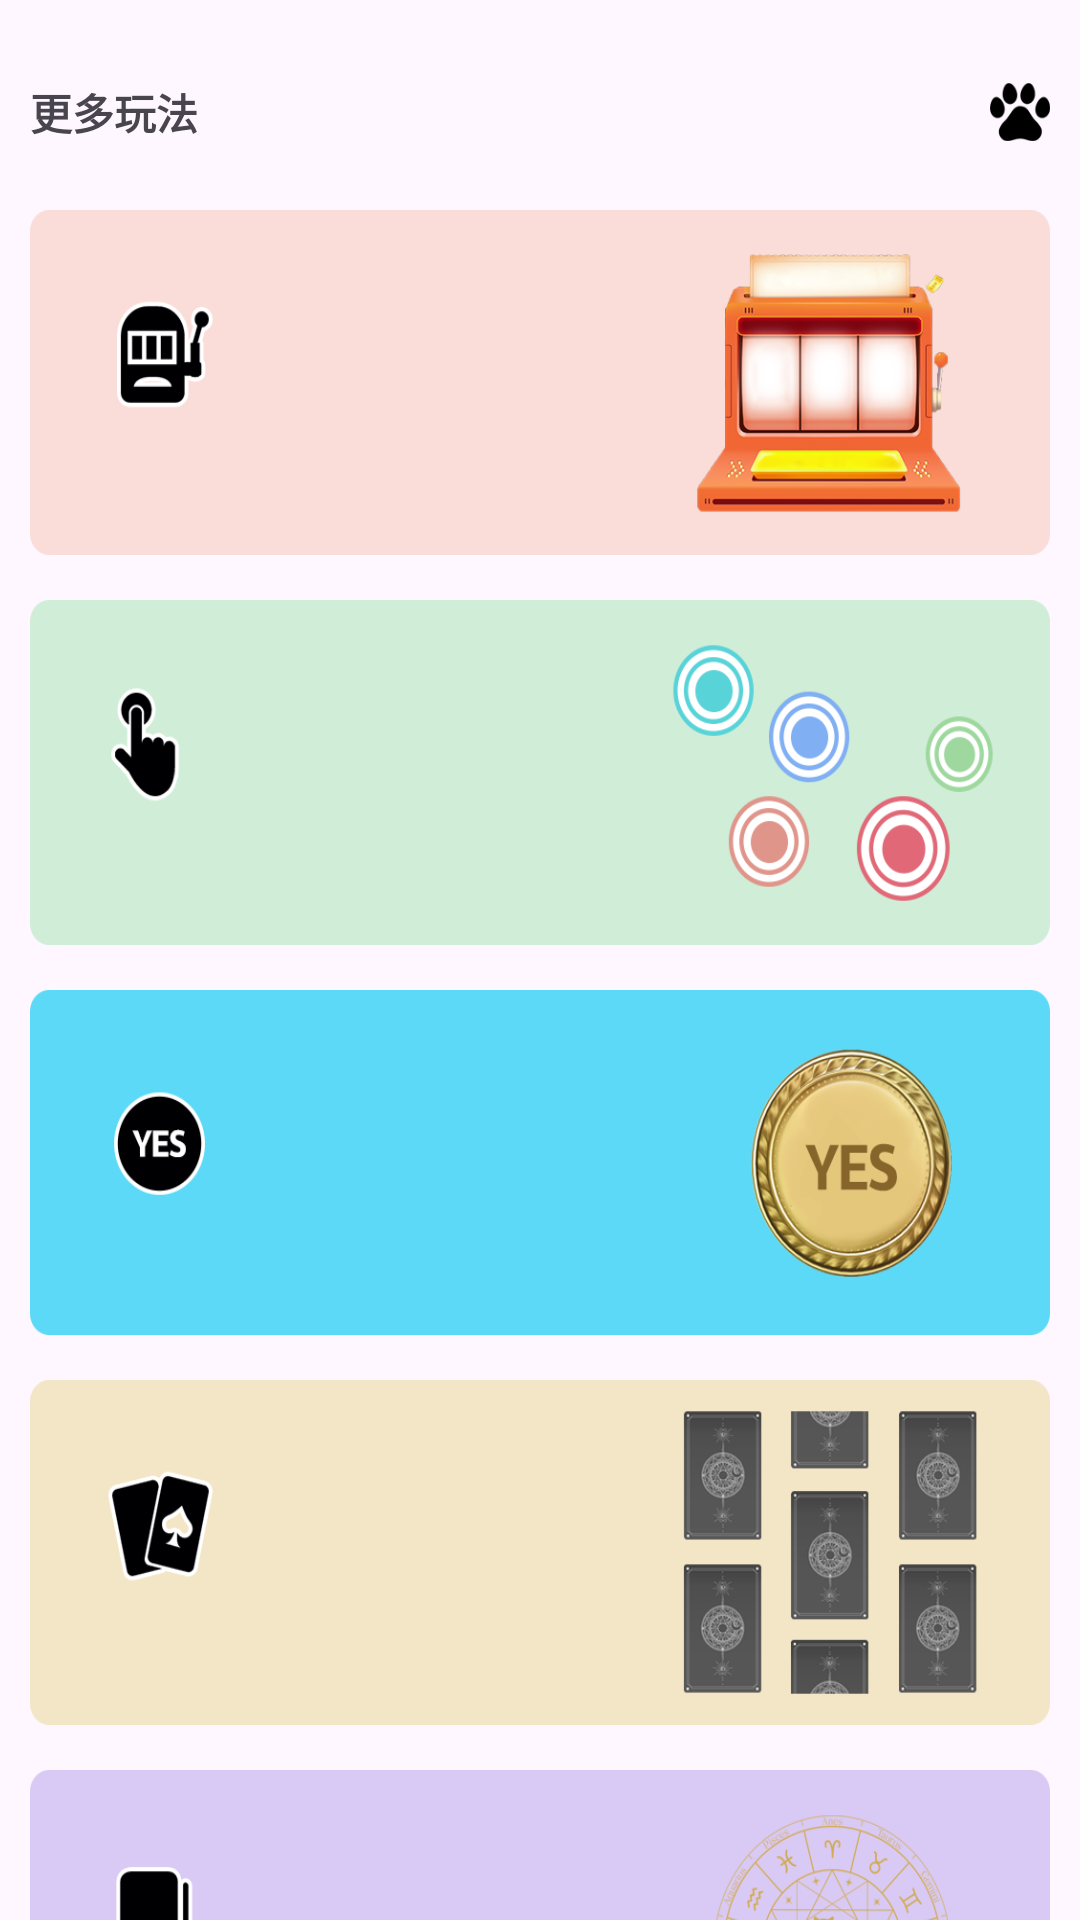

Icons on this 1080 × 1920 Android screen, each with the point to tap as [x,y]:
gouzhua: [1020,112]
